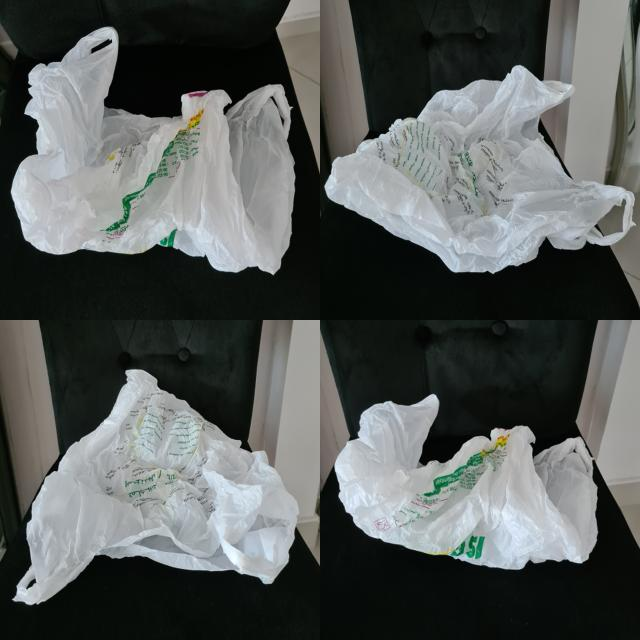Single-layer Plastic: (11, 28, 295, 274), (15, 370, 298, 604), (326, 66, 634, 272), (335, 395, 598, 570)
